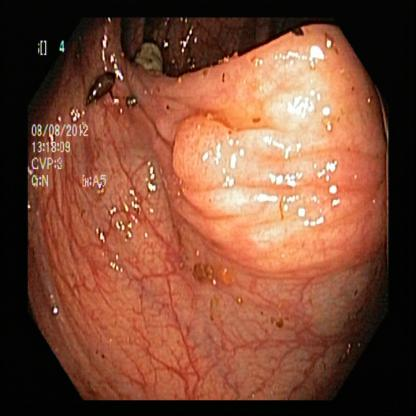Labels: (28, 111, 116, 207)
Polyps: (168, 110, 256, 204)
